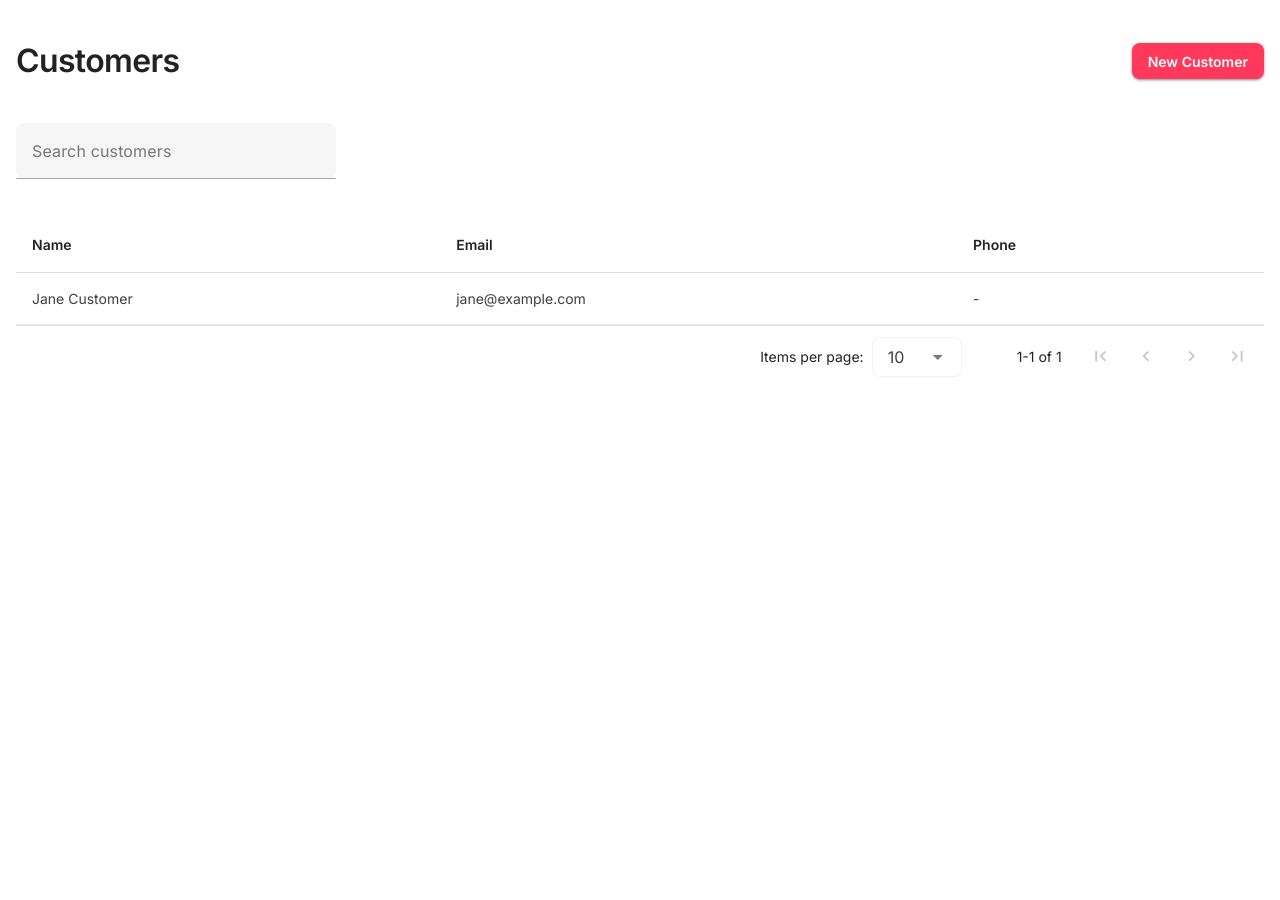
Test: CustomerListView › shows the conflict message with a link to the existing customer on a 409
This screenshot has width=1280, height=900.
Click the button with test id "customer-create-button" at coordinates (1198, 61), box left=1132, top=43, right=1264, bottom=79
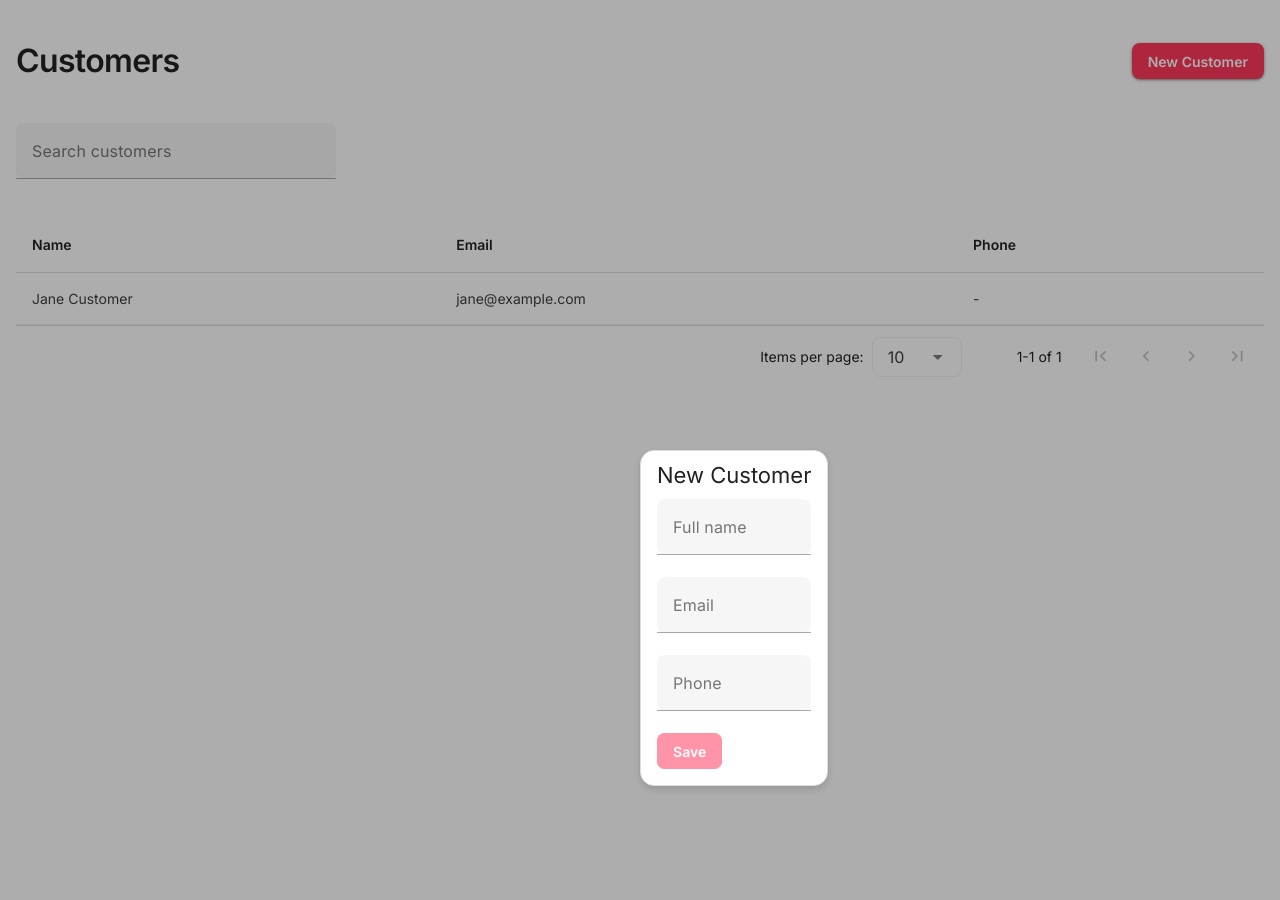
Type "Dup Customer" into the field labelled "Full name" at coordinates (734, 527), box left=657, top=499, right=812, bottom=555
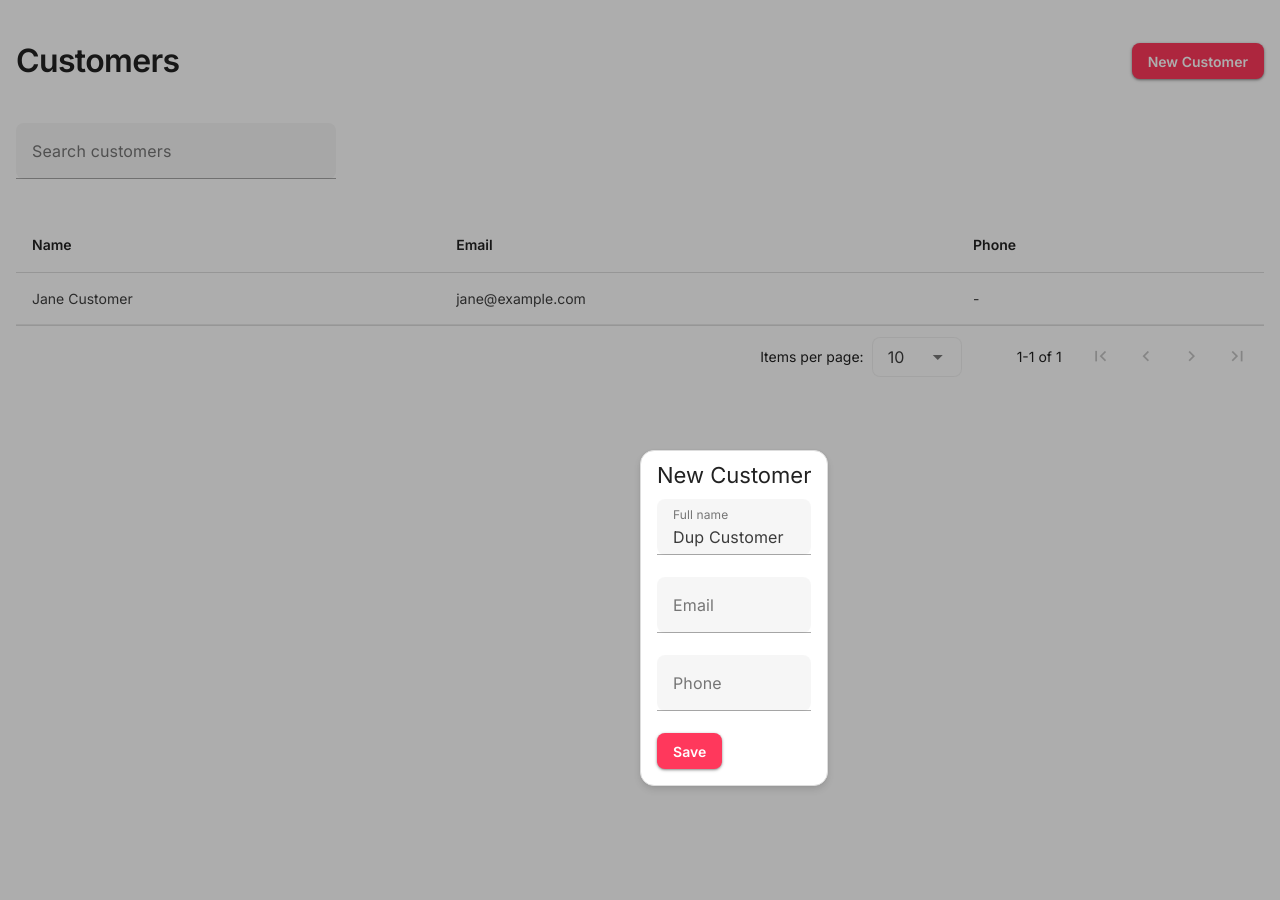
Submit the form, box left=657, top=499, right=812, bottom=769
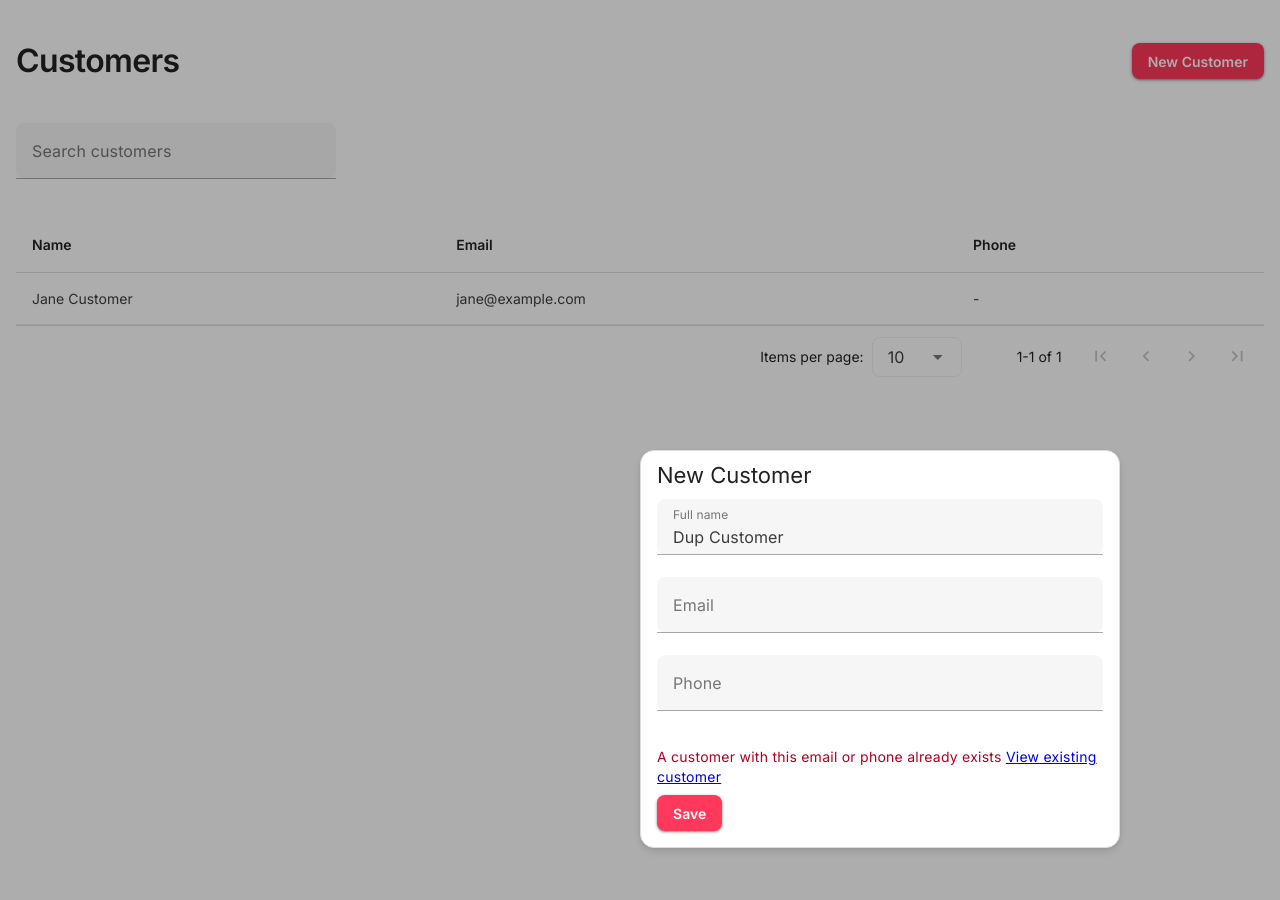
Check: the element with test id "customer-error" is shown, box left=657, top=747, right=1103, bottom=787
Check: the link with test id "customer-conflict-link" is shown, box left=657, top=748, right=1097, bottom=785
